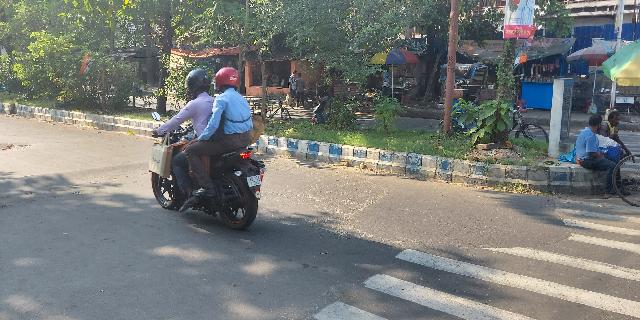Motorbike: (146, 66, 266, 232)
